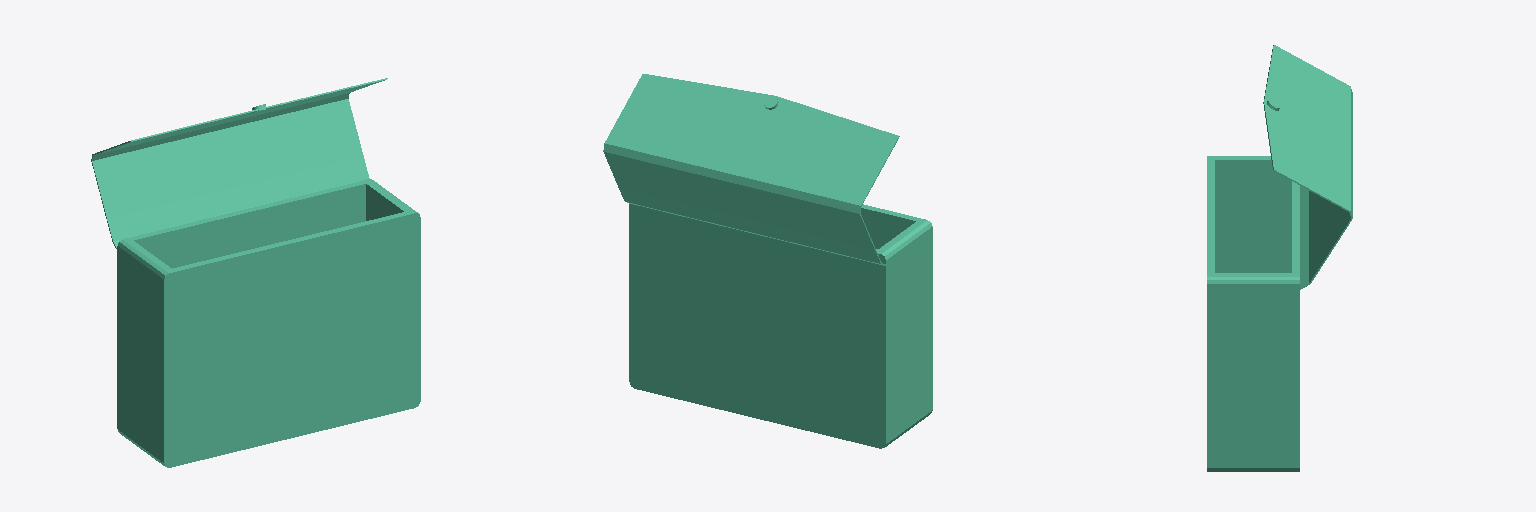
Rendered from briefcase.obj.
3 views of the same model, side by side, from view 1: azimuth 30°, elevation 25°; view 2: azimuth 150°, elevation 25°; view 3: azimuth 270°, elevation 25° (orthographic).
Parts seen in each view (by area): view 1: 24h, 24hTop; view 2: 24h, 24hTop; view 3: 24h, 24hTop.
Boxes of the visible parts, <box> form: 24h: <box>117,179,420,467</box>; 24hTop: <box>91,78,387,250</box>; 24h: <box>629,204,932,448</box>; 24hTop: <box>603,74,899,265</box>; 24h: <box>1207,156,1299,471</box>; 24hTop: <box>1263,45,1352,289</box>.
Bounding box in the file's own units: 2 × 2.31 × 0.9832.